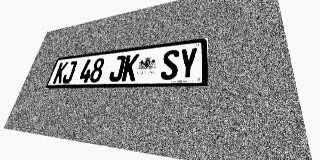4: (78, 59, 95, 83)
8: (88, 57, 106, 82)
J: (108, 55, 126, 82), (61, 61, 78, 83)
K: (121, 54, 140, 81), (52, 62, 69, 84)
S: (160, 49, 180, 80)
Y: (178, 47, 198, 79)
